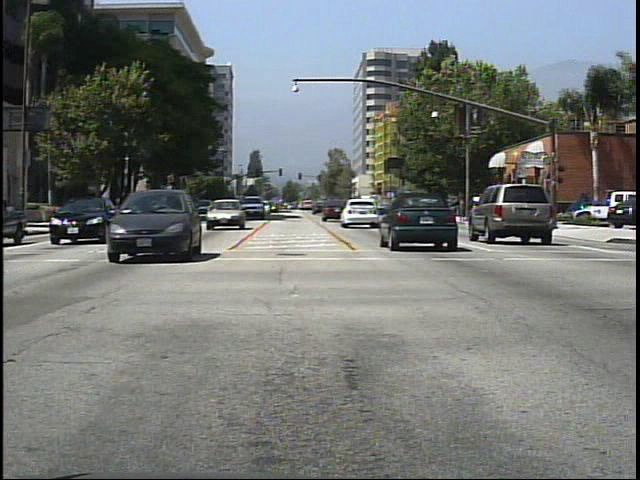person: (482, 189, 501, 225), (514, 195, 532, 231)
